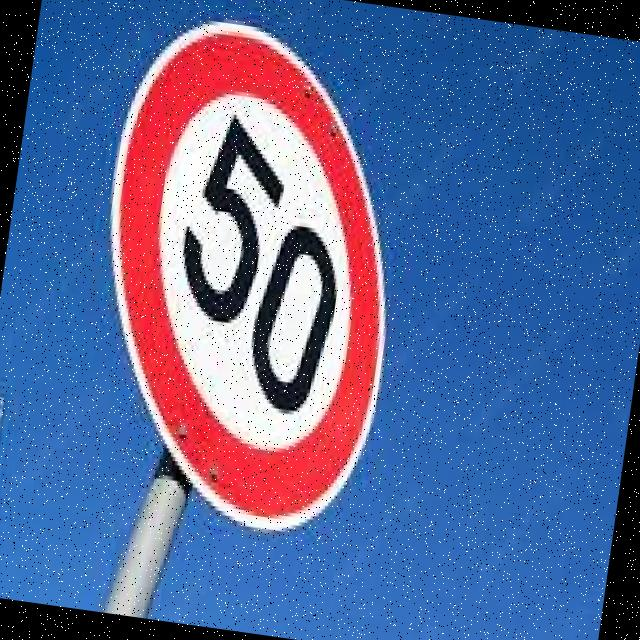speed_limit_50: (60, 0, 445, 546)
